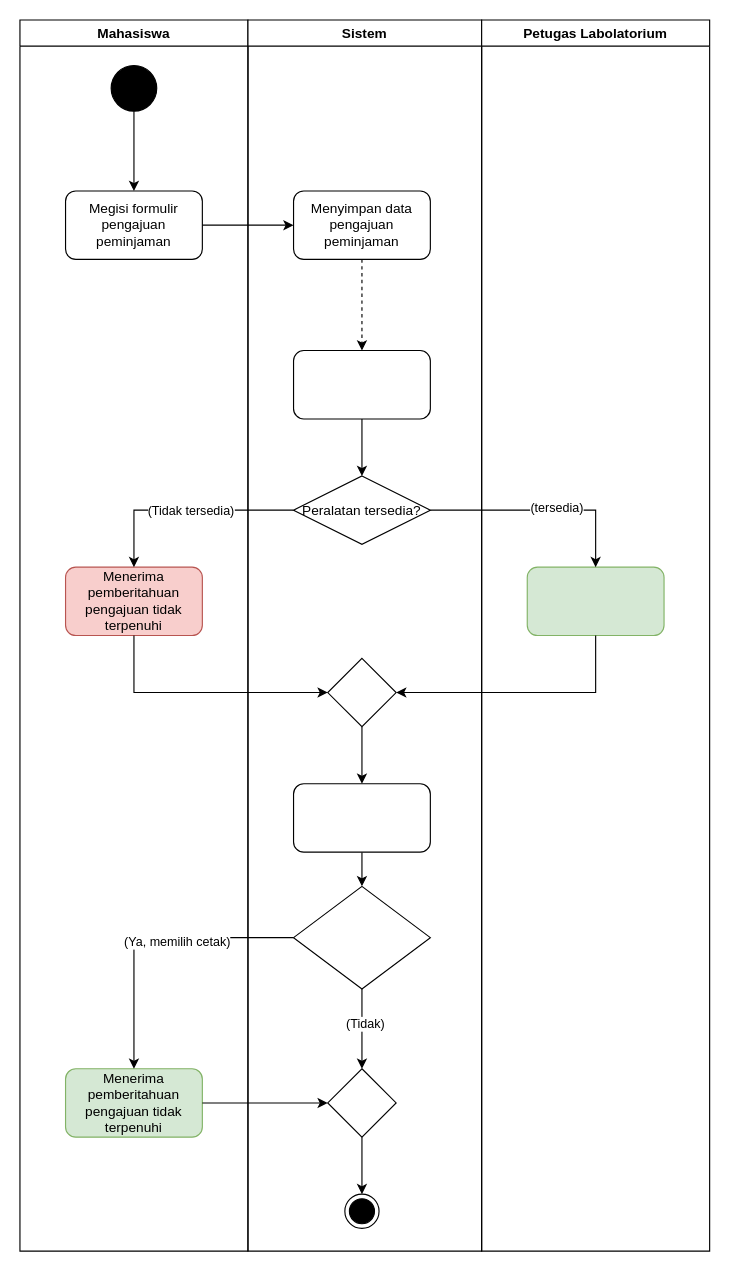
Some shapes in this 730 by 1271 pixel diagram are drawn without their labels. Each missing label, with the centre of its shape:
Maasiswa memlili mencetak bukti?: the point at 361,937
Memproses keputusan peminjaman: the point at 595,601
Mencatat hasil keputusan pengajuan: the point at 361,817
Periksa ketersediaan dari LAB-UC04: the point at 361,384
